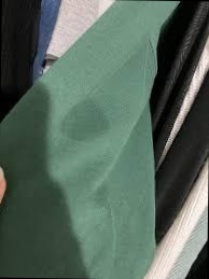oil: (58, 101, 112, 144)
